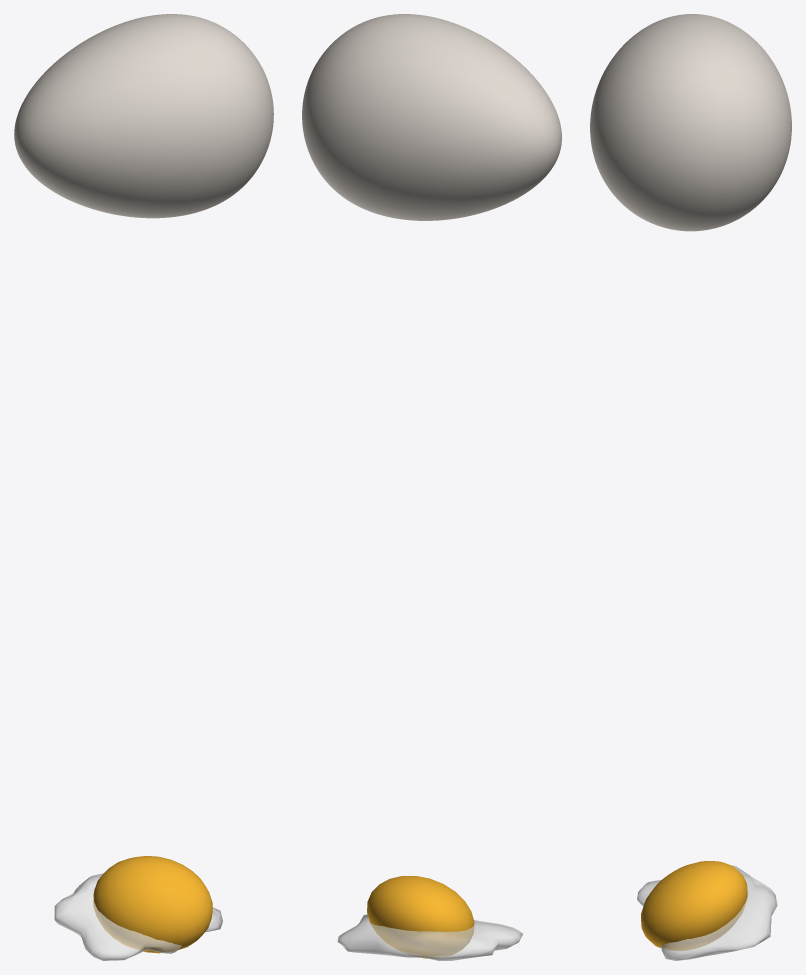
3 renders of one model, left to right at view 1: azimuth 30°, elevation 25°; view 2: azimuth 150°, elevation 25°; view 3: azimuth 270°, elevation 25°, orthographic.
Visible parts, largest first — view 1: 球.005, 球.002, 球.001, 球; view 2: 球.005, 球.002, 球.001, 球; view 3: 球.002, 球.001, 球, 球.005.
Boxes of the visible parts, left/top/right/bottom form: 球.005: left=14, top=19, right=200, bottom=218; 球.002: left=132, top=14, right=273, bottom=217; 球.001: left=93, top=856, right=212, bottom=953; 球: left=54, top=873, right=222, bottom=960; 球.005: left=371, top=20, right=561, bottom=220; 球.002: left=302, top=14, right=446, bottom=220; 球.001: left=367, top=876, right=474, bottom=958; 球: left=337, top=914, right=522, bottom=960; 球.002: left=590, top=28, right=791, bottom=231; 球.001: left=641, top=861, right=747, bottom=950; 球: left=637, top=865, right=777, bottom=960; 球.005: left=595, top=14, right=787, bottom=95.
Bounding box in the file's own units: 2.99 × 10.95 × 2.19.
